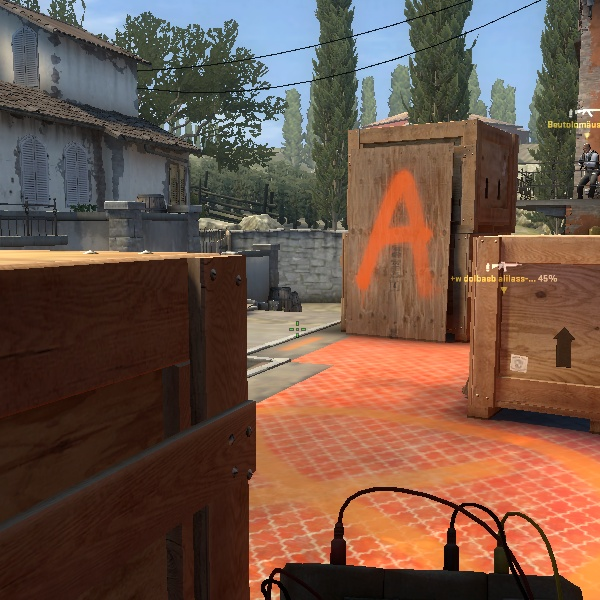t_body: (575, 139, 599, 203)
